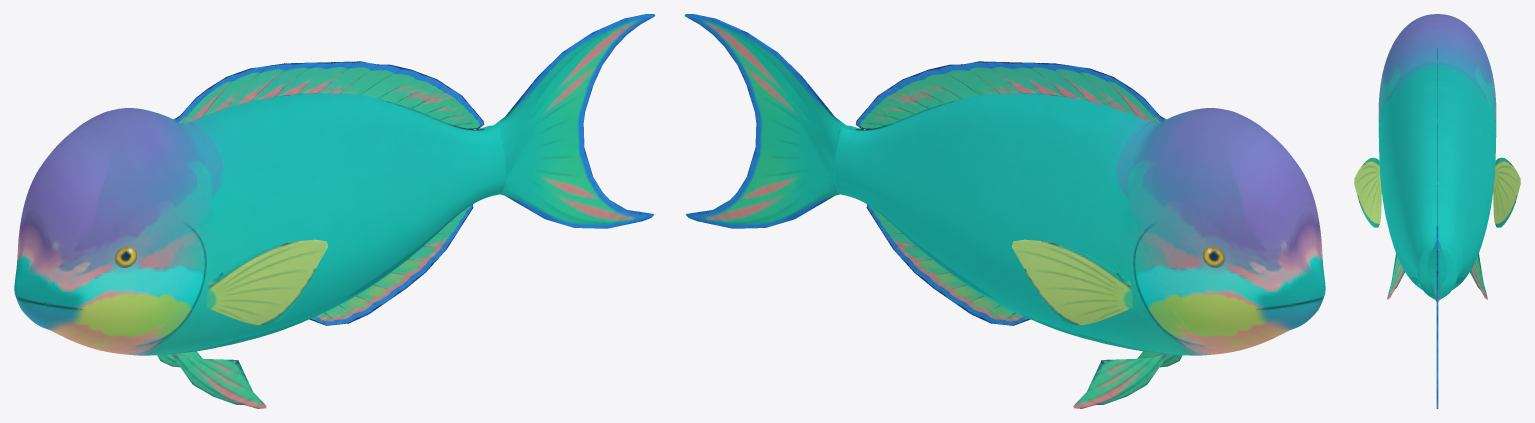
Rendered from nanyoubudai-light-v5.glb.
3 views of the same model, side by side, from view 1: azimuth 30°, elevation 25°; view 2: azimuth 150°, elevation 25°; view 3: azimuth 270°, elevation 25° (orthographic). The views are drawn at different scales.
Parts seen in each view (by area): view 1: body, caudal, dorsal, pectoral_1, operculum_1, anal, pelvic_1; view 2: body, caudal, dorsal, pectoral_-1, operculum_-1, anal, pelvic_-1; view 3: body, pectoral_-1, pectoral_1, caudal, pelvic_-1, pelvic_1, dorsal.
Part boxes in pixels (x1=…): body: x1=14, y1=93, x2=505, y2=355; caudal: x1=484, y1=14, x2=655, y2=228; dorsal: x1=175, y1=61, x2=484, y2=130; pectoral_1: x1=206, y1=239, x2=328, y2=324; operculum_1: x1=122, y1=224, x2=223, y2=355; anal: x1=309, y1=204, x2=473, y2=325; pelvic_1: x1=171, y1=354, x2=266, y2=408; body: x1=834, y1=93, x2=1325, y2=355; caudal: x1=684, y1=14, x2=855, y2=228; dorsal: x1=855, y1=61, x2=1164, y2=130; pectoral_-1: x1=1011, y1=239, x2=1133, y2=324; operculum_-1: x1=1116, y1=224, x2=1217, y2=355; anal: x1=866, y1=204, x2=1030, y2=325; pelvic_-1: x1=1073, y1=354, x2=1168, y2=408; body: x1=1378, y1=14, x2=1496, y2=301; pectoral_-1: x1=1493, y1=157, x2=1520, y2=227; pectoral_1: x1=1354, y1=157, x2=1381, y2=227; caudal: x1=1427, y1=226, x2=1447, y2=408; pelvic_-1: x1=1470, y1=253, x2=1487, y2=299; pelvic_1: x1=1387, y1=253, x2=1404, y2=299; dorsal: x1=1437, y1=48, x2=1437, y2=225.
Bounding box in the file's own units: 0.5503 × 0.2576 × 0.1561.
5 materials, 5 textured.
